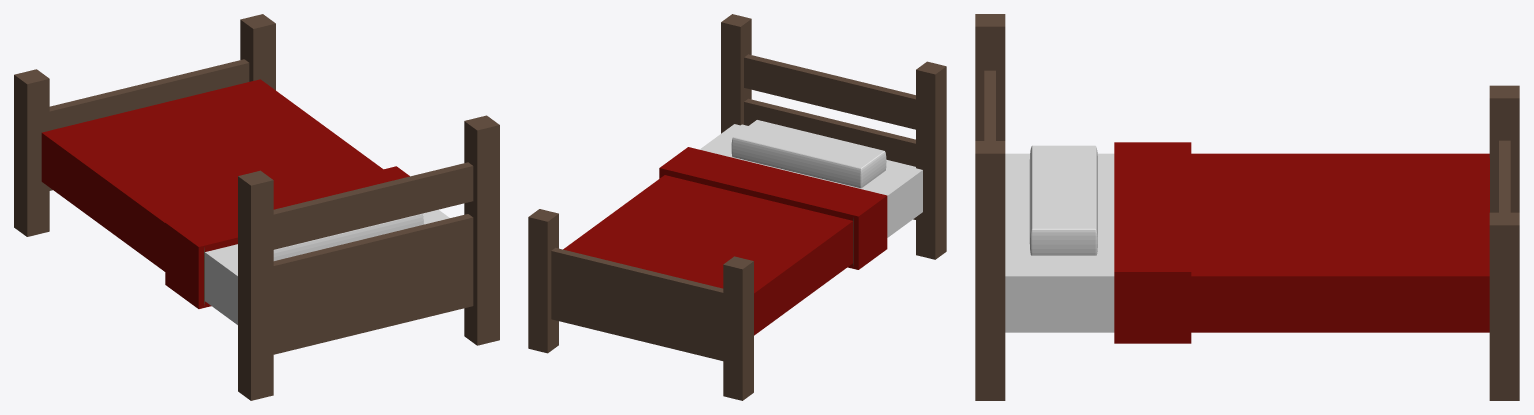
File: bed_v2.fbx
3 views of the same model, side by side, from view 1: azimuth 30°, elevation 25°; view 2: azimuth 150°, elevation 25°; view 3: azimuth 270°, elevation 25° (orthographic). The views are drawn at different scales.
Parts seen in each view (by area): view 1: Cube.003; view 2: Cube.003; view 3: Cube.003.
Boxes of the visible parts, x1=… form: Cube.003: x1=14, y1=14, x2=499, y2=400; Cube.003: x1=528, y1=14, x2=946, y2=400; Cube.003: x1=975, y1=14, x2=1519, y2=400.
Bounding box in the file's own units: 544 × 450 × 897.
